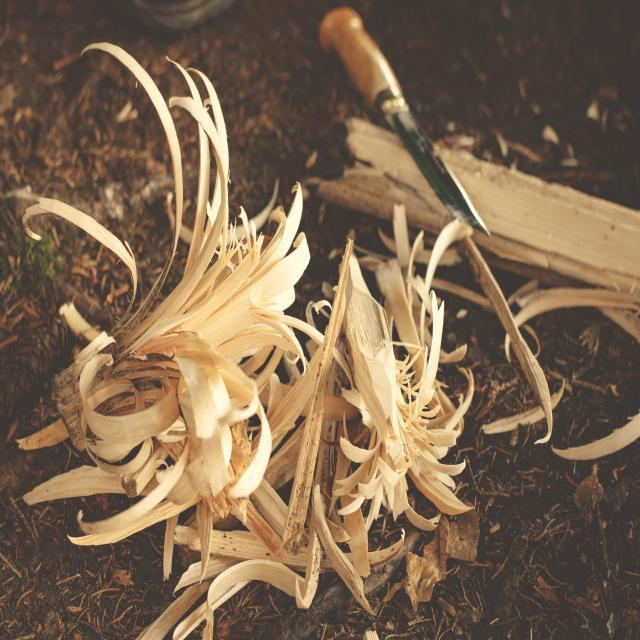Knife: (320, 8, 489, 233)
